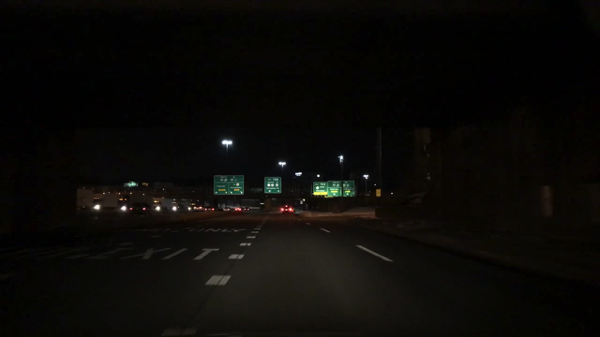car: (130, 202, 154, 217), (279, 204, 294, 215), (205, 206, 217, 212), (222, 206, 231, 213), (193, 205, 204, 210), (232, 207, 240, 213), (242, 206, 249, 211)
traffic sign: (213, 175, 243, 195), (264, 177, 281, 193), (313, 182, 327, 195), (325, 189, 340, 198), (340, 182, 354, 189), (327, 182, 340, 188), (374, 189, 381, 198), (342, 191, 354, 196)
